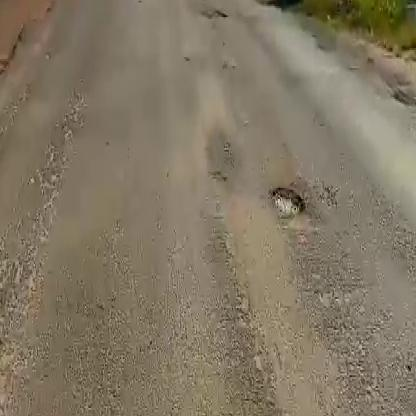pothole: (269, 181, 311, 224), (204, 6, 236, 20)
